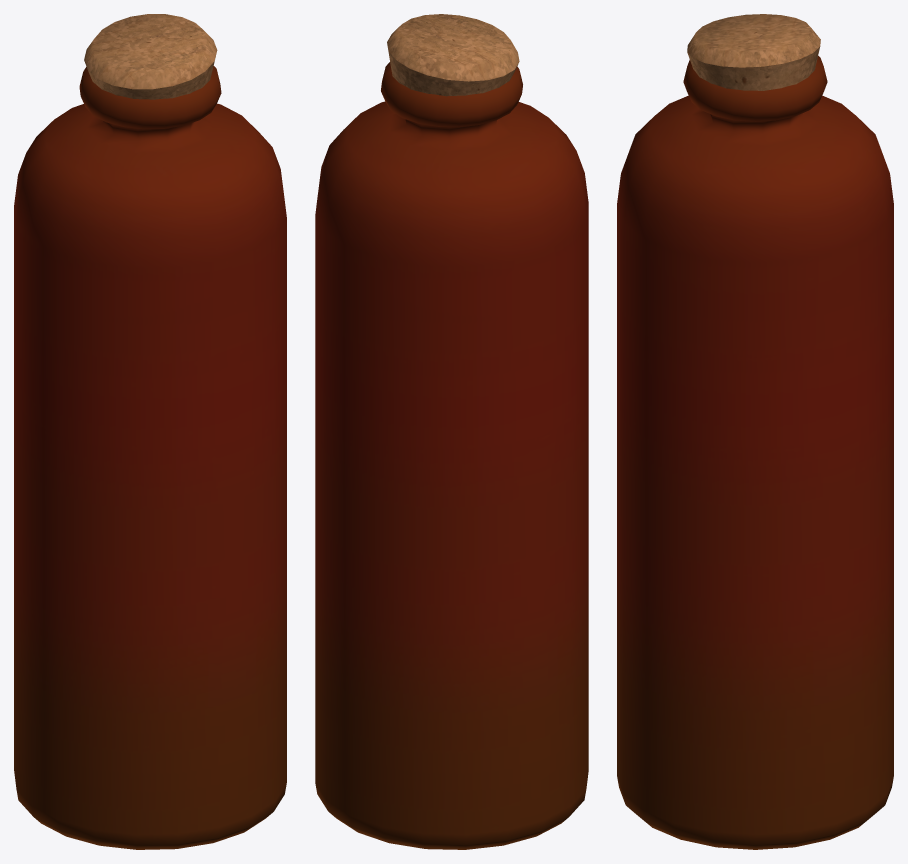
The model's file is SM_Potion_Props_Bottle_Small_05_A.fbx.
The picture shows the model from 3 angles, left to right: view 1: azimuth 30°, elevation 25°; view 2: azimuth 150°, elevation 25°; view 3: azimuth 270°, elevation 25°; orthographic projection.
Parts seen in each view (by area): view 1: SM_Potion_Props_Bottle_Small_05_A_LOD0; view 2: SM_Potion_Props_Bottle_Small_05_A_LOD0; view 3: SM_Potion_Props_Bottle_Small_05_A_LOD0.
Boxes of the visible parts, left/top/right/bottom form: SM_Potion_Props_Bottle_Small_05_A_LOD0: left=14, top=14, right=286, bottom=849; SM_Potion_Props_Bottle_Small_05_A_LOD0: left=315, top=14, right=588, bottom=849; SM_Potion_Props_Bottle_Small_05_A_LOD0: left=617, top=14, right=893, bottom=849.
Size of what is drawn, in the model's own units: 7.52 by 23.05 by 7.52.
